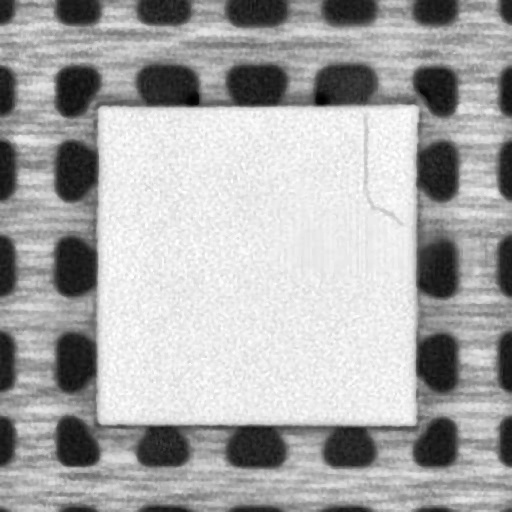DIE_CRACK: (356, 112, 401, 226)
